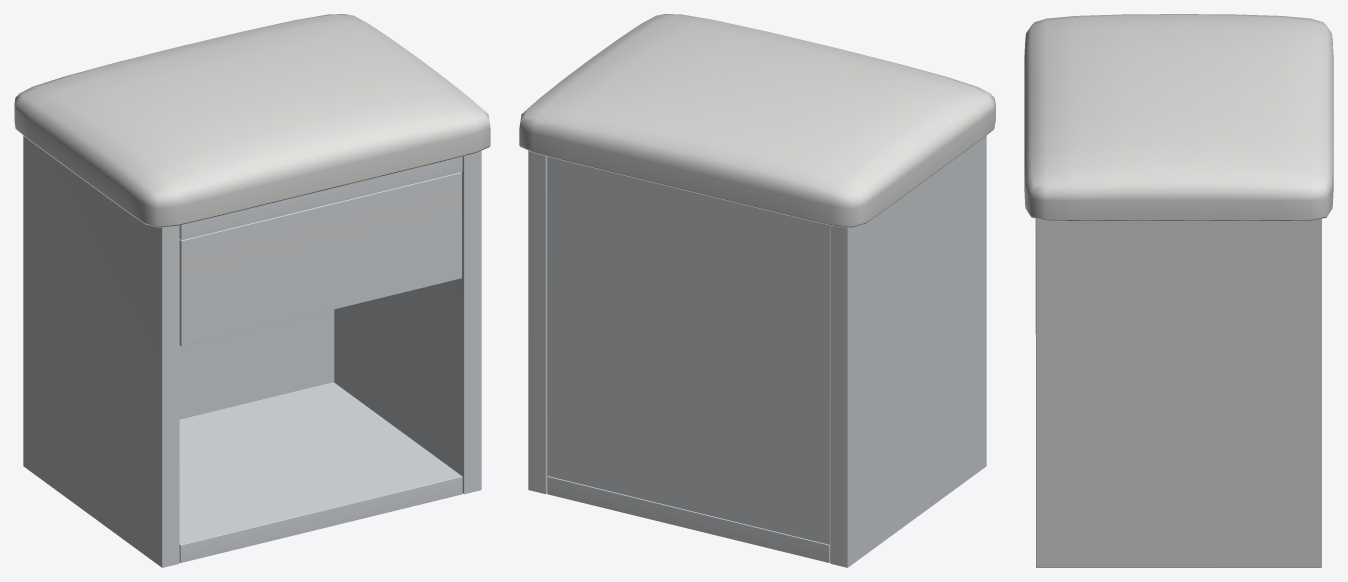
File: lower_table(lobby).fbx
The picture shows the model from 3 angles, left to right: view 1: azimuth 30°, elevation 25°; view 2: azimuth 150°, elevation 25°; view 3: azimuth 270°, elevation 25°; orthographic projection. The views are drawn at different scales.
Parts seen in each view (by area): view 1: low_table; view 2: low_table; view 3: low_table.
Part boxes in pixels (left/top/right/bottom): low_table: left=14, top=14, right=490, bottom=567; low_table: left=519, top=14, right=995, bottom=567; low_table: left=1024, top=14, right=1333, bottom=567.
Size of the model in its own units: 43.23 by 32.42 by 47.27.
1 material, 1 textured.
